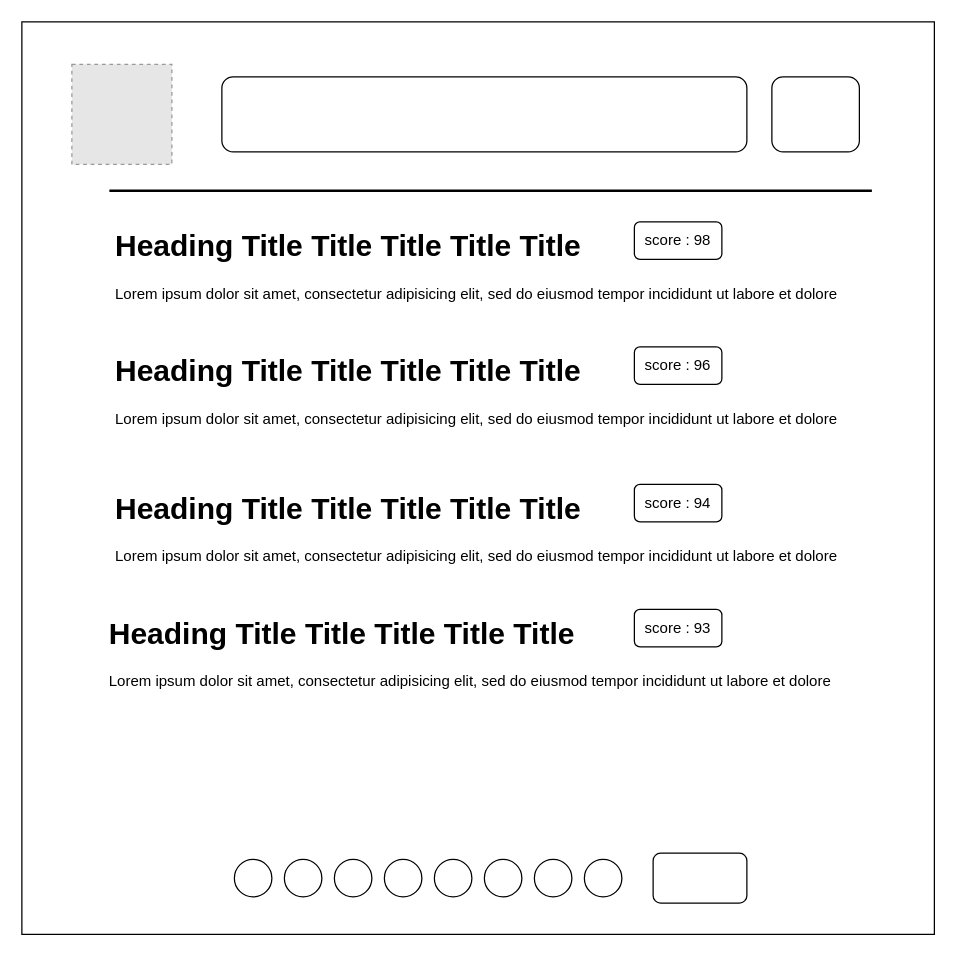
Some shapes in this 956 by 956 pixel diagram are drawn without their labels. Grey dashed boxes stand in for pictures. The shapes that lost their labels are listed below. From the top down, each one's centre as x and y in pixels, then its label:
At pixel 815 114: "search".
At pixel 699 877: "next".
